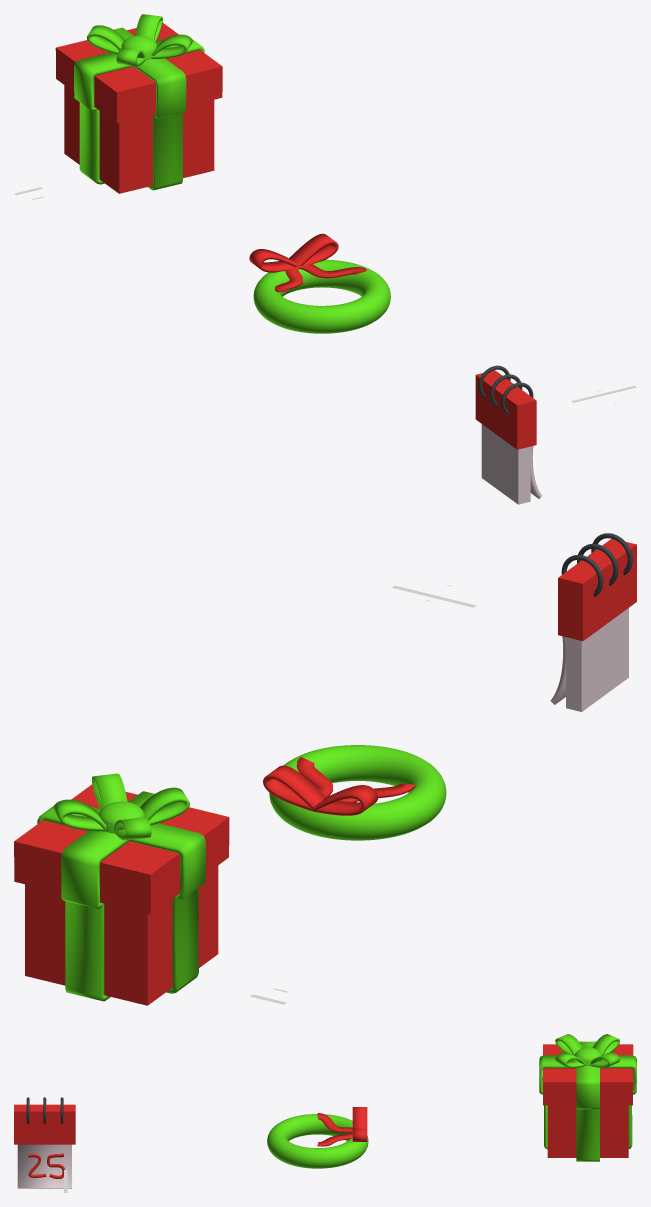
Rendered from PODAROCHKI_01.fbx.
3 views of the same model, one above another, from view 1: azimuth 30°, elevation 25°; view 2: azimuth 150°, elevation 25°; view 3: azimuth 270°, elevation 25° (orthographic). The views are drawn at different scales.
Visible parts, largest first — view 1: Cube.002, Cube.003, Torus.001, Cube, NurbsPath.003, NurbsPath.002, NurbsPath.001, NurbsPath, Torus.004; view 2: Cube.002, Cube.003, Cube, Torus.001, NurbsPath.003, NurbsPath.001, NurbsPath.002, Torus.004, NurbsPath, Sphere; view 3: Cube.002, Cube.003, Torus.001, Cube, NurbsPath.004, NurbsPath.001, NurbsPath.002, NurbsPath.003, NurbsPath, Sphere, Torus.004.
Part boxes in pixels (<box>): Cube.002: <box>55,23,222,193</box>; Cube.003: <box>74,27,204,190</box>; Torus.001: <box>253,259,390,333</box>; Cube: <box>475,370,536,504</box>; NurbsPath.003: <box>249,233,338,272</box>; NurbsPath.002: <box>87,25,192,59</box>; NurbsPath.001: <box>116,14,162,65</box>; NurbsPath: <box>275,264,366,292</box>; Torus.004: <box>478,365,533,414</box>; Cube.002: <box>14,784,229,1005</box>; Cube.003: <box>37,791,205,1001</box>; Cube: <box>558,538,636,711</box>; Torus.001: <box>269,745,446,840</box>; NurbsPath.003: <box>263,765,377,815</box>; NurbsPath.001: <box>53,787,189,831</box>; NurbsPath.002: <box>92,773,151,840</box>; Torus.004: <box>561,533,632,596</box>; NurbsPath: <box>296,757,415,802</box>; Sphere: <box>98,801,144,833</box>; Cube.002: <box>543,1044,633,1157</box>; Cube.003: <box>539,1041,636,1161</box>; Torus.001: <box>267,1114,368,1168</box>; Cube: <box>14,1104,75,1144</box>; NurbsPath.004: <box>17,1144,71,1188</box>; NurbsPath.001: <box>555,1034,619,1067</box>; NurbsPath.002: <box>555,1034,619,1067</box>; NurbsPath.003: <box>352,1107,367,1141</box>; NurbsPath: <box>317,1113,352,1146</box>; Sphere: <box>574,1047,601,1065</box>; Torus.004: <box>26,1097,63,1123</box>.
Bounding box in the file's own units: 84.76 × 56.23 × 231.
